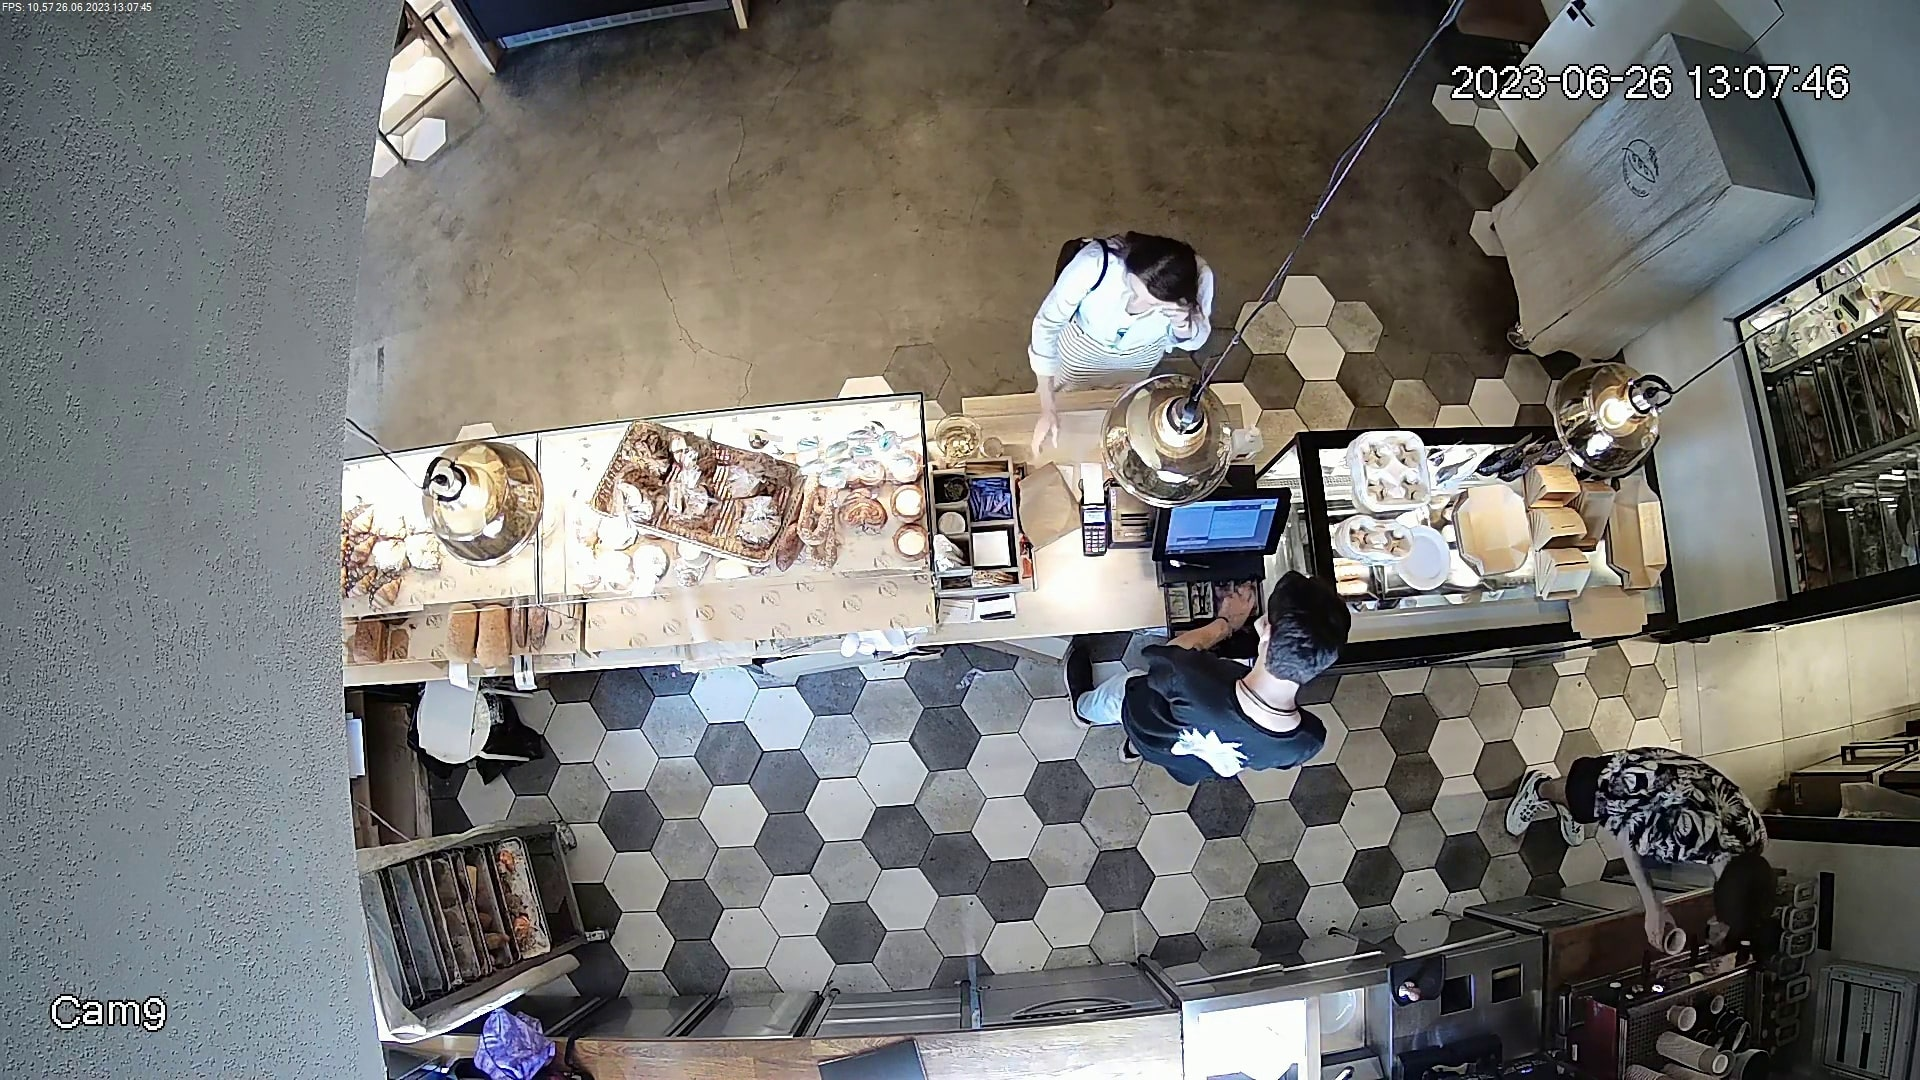barcounter: (353, 430, 1664, 673)
pack: (1007, 460, 1088, 550)
person: (1067, 577, 1384, 785), (1509, 712, 1793, 934), (1019, 220, 1219, 429)
